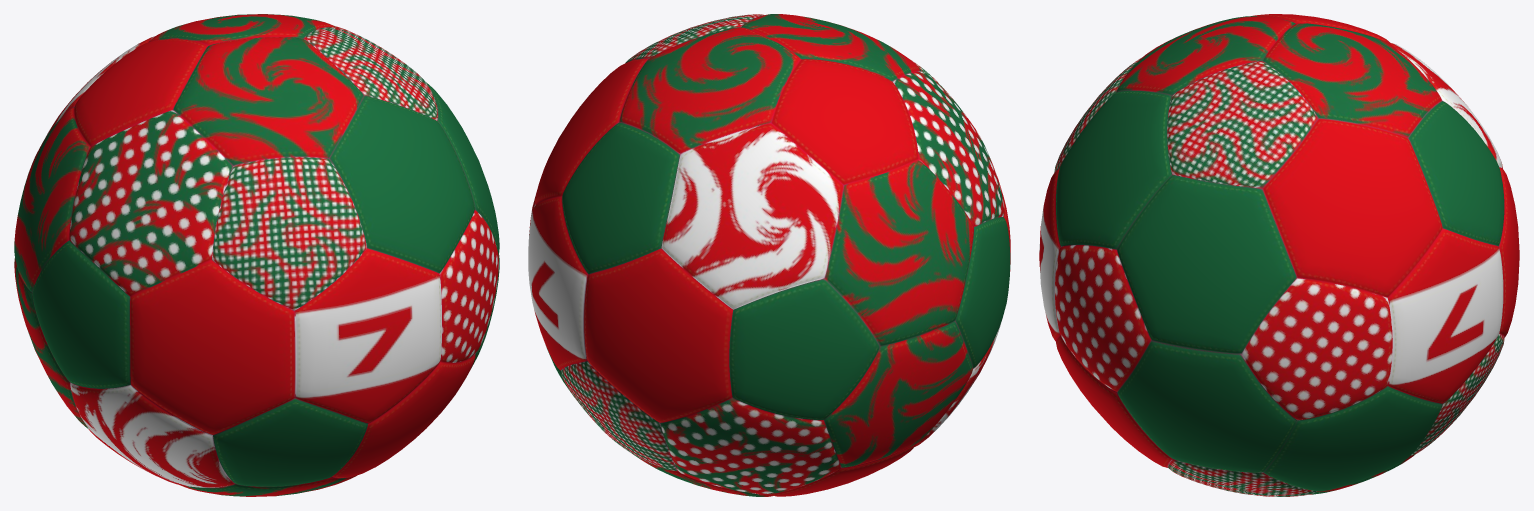
File: Ball-6b.glb
3 renders of one model, left to right at view 1: azimuth 30°, elevation 25°; view 2: azimuth 150°, elevation 25°; view 3: azimuth 270°, elevation 25°, orthographic.
Parts seen in each view (by area): view 1: Ball.001; view 2: Ball.001; view 3: Ball.001.
Part boxes in pixels (box(x1,y1,x2,y2)): Ball.001: box(14, 14, 499, 496); Ball.001: box(528, 14, 1010, 496); Ball.001: box(1039, 14, 1519, 496).
Size of the model in its own units: 1.56 by 1.55 by 1.55.
1 material, 1 textured.
